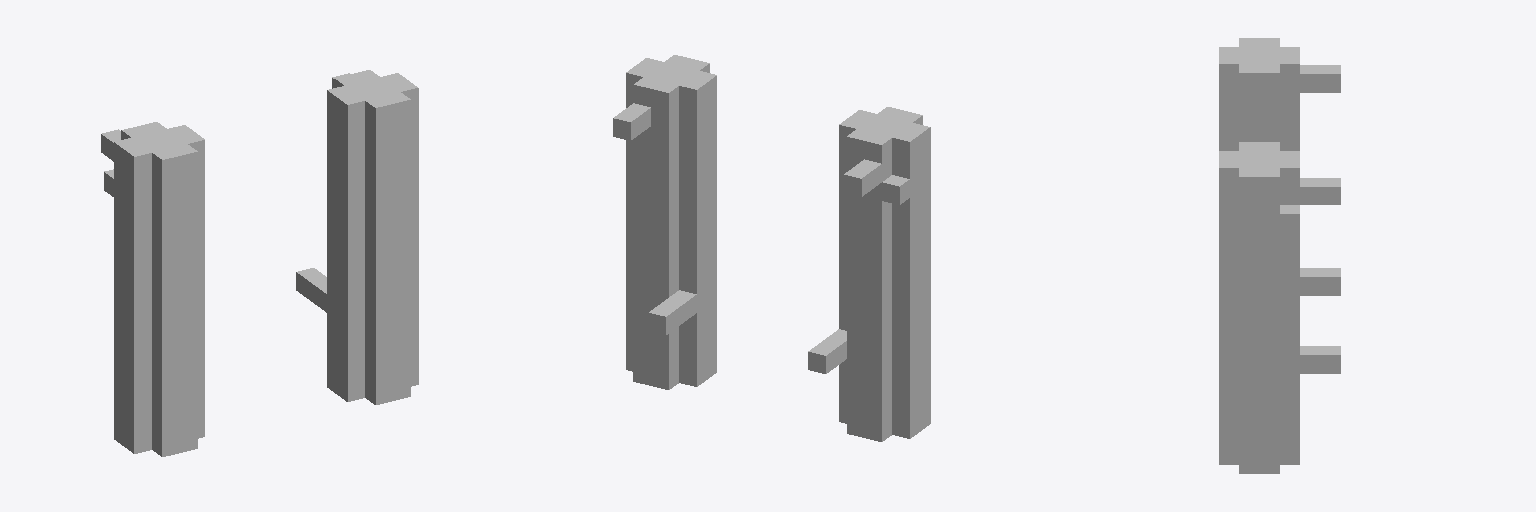
Rendered from rope_bridges_planks_stilt_l3.obj.
3 renders of one model, left to right at view 1: azimuth 30°, elevation 25°; view 2: azimuth 150°, elevation 25°; view 3: azimuth 270°, elevation 25°, orthographic.
Visible parts, largest first — view 1: node_0_0_0; view 2: node_0_0_0; view 3: node_0_0_0.
Part boxes in pixels (bbox=[...]): node_0_0_0: bbox=[101, 70, 418, 456]; node_0_0_0: bbox=[613, 55, 930, 441]; node_0_0_0: bbox=[1219, 38, 1340, 473].
Bounding box in the file's own units: 1 × 1 × 0.375.